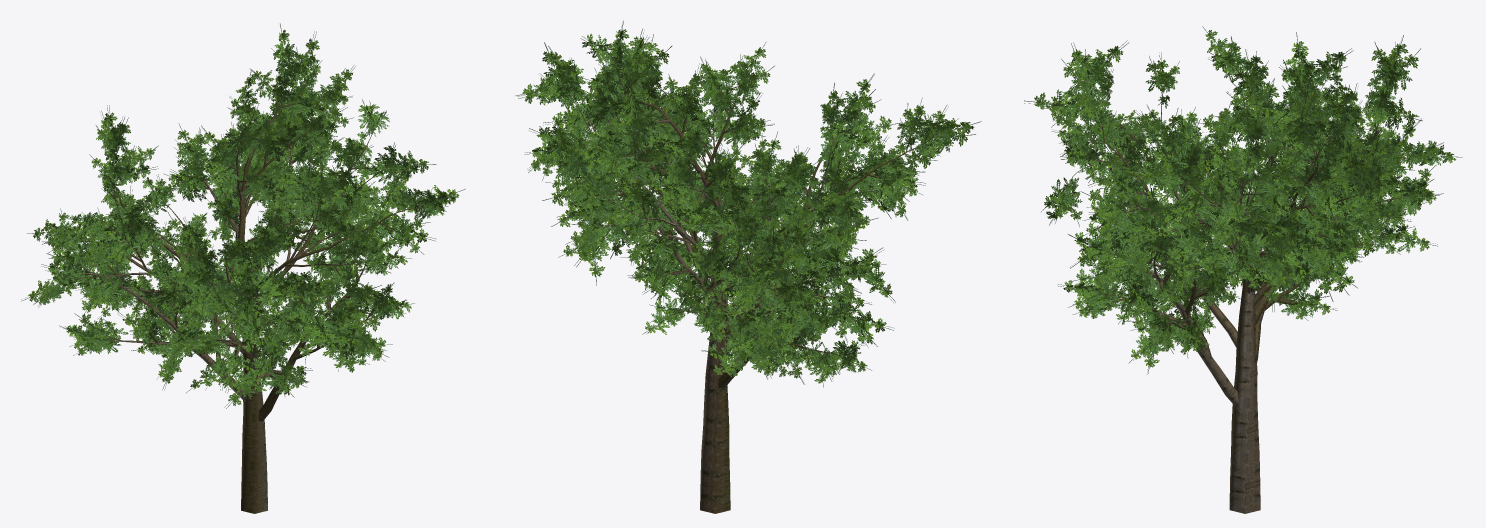
The model's file is tree_ash_large.glb.
3 renders of one model, left to right at view 1: azimuth 30°, elevation 25°; view 2: azimuth 150°, elevation 25°; view 3: azimuth 270°, elevation 25°, orthographic. The views are drawn at different scales.
Visible parts, largest first — view 1: Leaves, Branches; view 2: Leaves, Branches; view 3: Leaves, Branches.
Boxes of the visible parts, x1,y1,x2,y2 form: Leaves: [21, 23, 465, 408]; Branches: [60, 70, 427, 513]; Leaves: [515, 20, 981, 387]; Branches: [555, 56, 937, 513]; Leaves: [1024, 26, 1462, 374]; Branches: [1067, 61, 1416, 513].
Size of the model in its own units: 12.06 by 14 by 11.14.
2 materials, 2 textured.
